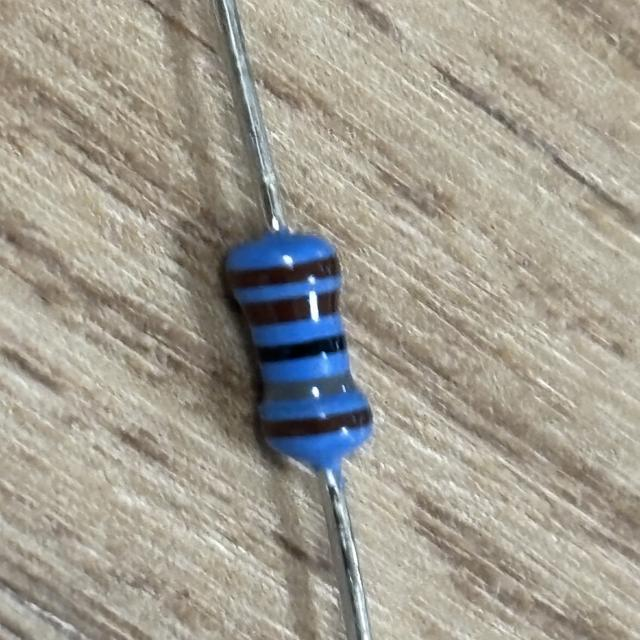resistor: (218, 239, 381, 461)
